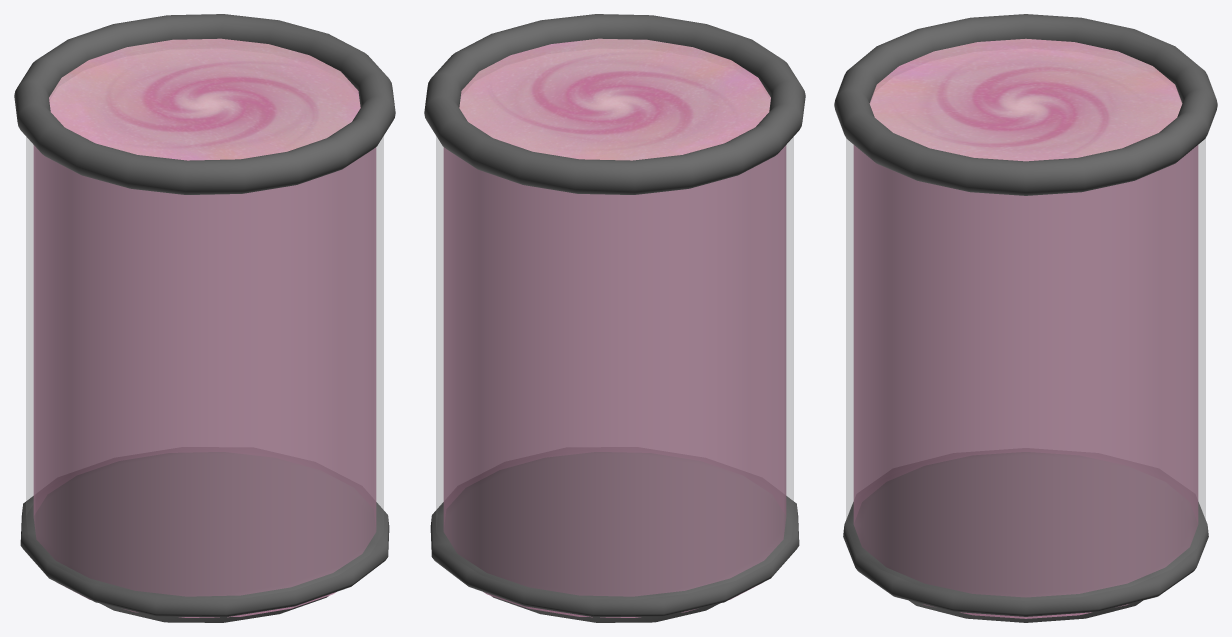
File: 第二關獻祭藥水桶.fbx
3 views of the same model, side by side, from view 1: azimuth 30°, elevation 25°; view 2: azimuth 150°, elevation 25°; view 3: azimuth 270°, elevation 25° (orthographic).
Parts seen in each view (by area): view 1: pTorus42; view 2: pTorus42; view 3: pTorus42.
Boxes of the visible parts, x1,y1,x2,y2 form: pTorus42: (14, 14, 395, 622); pTorus42: (424, 14, 805, 622); pTorus42: (834, 14, 1217, 622).
Size of the model in its own units: 0.559 by 0.7778 by 0.559.
